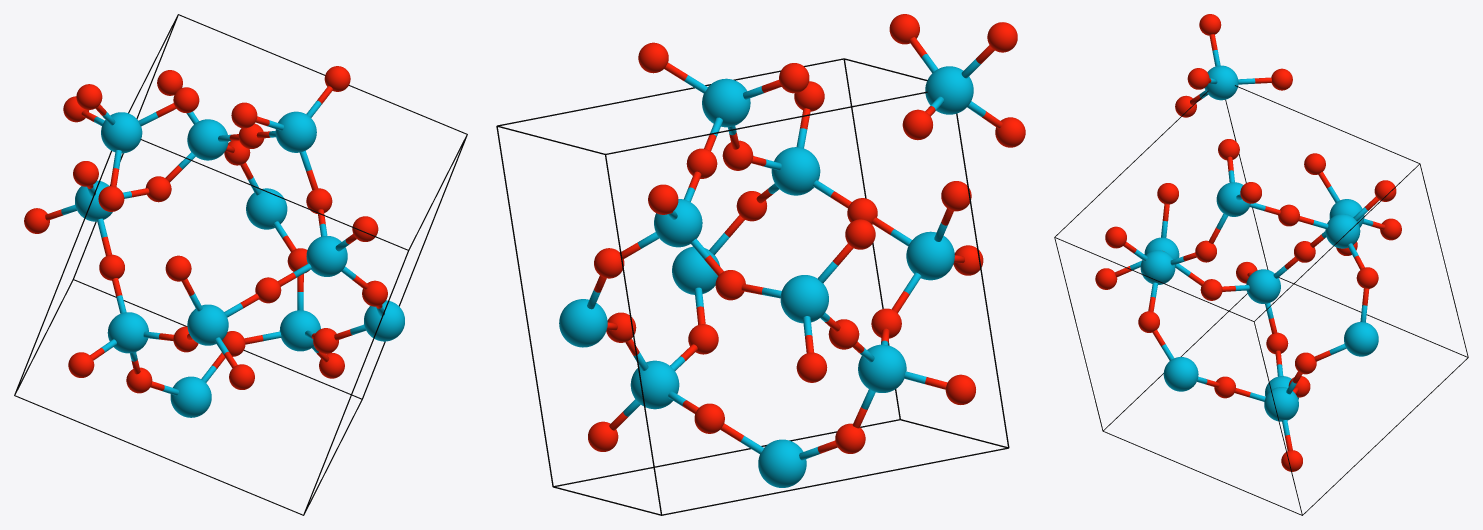
The model's file is SiO2.glb.
3 views of the same model, side by side, from view 1: azimuth 30°, elevation 25°; view 2: azimuth 150°, elevation 25°; view 3: azimuth 270°, elevation 25° (orthographic). The views are drawn at different scales.
Visible parts, largest first — view 1: CMAtom_24, CMAtom_6, CMAtom_35, CMAtom_2, CMAtom_1, CMAtom_7, CMAtom_3, CMAtom_4, CMAtom_0, CMAtom_5, CMAtom_29, CMAtom_38 (+20 smaller); view 2: CMAtom_6, CMAtom_7, CMAtom_29, CMAtom_24, CMAtom_3, CMAtom_1, CMAtom_35, CMAtom_0, CMAtom_4, CMAtom_2, CMAtom_5, UnitCellSegment_0 (+30 smaller); view 3: CMAtom_5, CMAtom_7, CMAtom_1, CMAtom_2, CMAtom_0, CMAtom_3, CMAtom_4, CMAtom_35, CMAtom_29.
Part boxes in pixels (x1,y1,x2,y2): CMAtom_24: [187, 304, 228, 345]; CMAtom_6: [170, 376, 211, 417]; CMAtom_35: [275, 111, 316, 152]; CMAtom_2: [187, 119, 228, 160]; CMAtom_1: [107, 312, 148, 353]; CMAtom_7: [246, 188, 287, 229]; CMAtom_3: [306, 235, 347, 276]; CMAtom_4: [101, 112, 142, 153]; CMAtom_0: [279, 310, 320, 351]; CMAtom_5: [364, 300, 404, 341]; CMAtom_29: [75, 180, 112, 221]; CMAtom_38: [231, 102, 257, 128]; CMAtom_6: [758, 439, 806, 487]; CMAtom_7: [559, 299, 607, 347]; CMAtom_29: [780, 275, 828, 323]; CMAtom_24: [906, 231, 954, 280]; CMAtom_3: [771, 147, 820, 195]; CMAtom_1: [858, 344, 906, 392]; CMAtom_35: [702, 78, 750, 127]; CMAtom_0: [630, 360, 679, 409]; CMAtom_4: [925, 66, 973, 114]; CMAtom_2: [654, 199, 702, 247]; CMAtom_5: [672, 246, 719, 294]; UnitCellSegment_0: [496, 126, 553, 486]; CMAtom_5: [1163, 357, 1198, 391]; CMAtom_7: [1344, 322, 1378, 356]; CMAtom_1: [1246, 269, 1280, 303]; CMAtom_2: [1325, 214, 1360, 248]; CMAtom_0: [1264, 387, 1298, 421]; CMAtom_3: [1140, 250, 1175, 284]; CMAtom_4: [1204, 65, 1238, 100]; CMAtom_35: [1216, 182, 1250, 216]; CMAtom_29: [1329, 199, 1364, 227].
Bounding box in the file's own units: 11.75 × 10.97 × 11.24.
